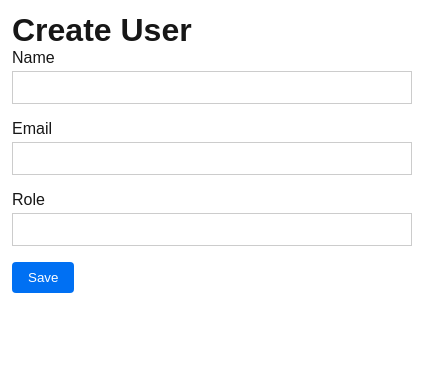
NewUserPage › shows validation errors when submitting empty form
This screenshot has width=429, height=370.
Click the button "Save" at {"x": 43, "y": 278}, box [12, 262, 74, 293]
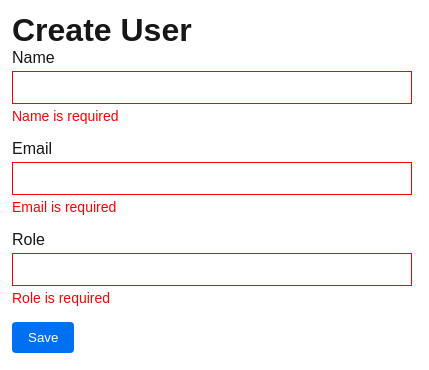
expect the text "Name is required" is shown: met, box [12, 108, 119, 124]
expect the text "Email is required" is shown: met, box [12, 199, 116, 215]
expect the text "Role is required" is shown: met, box [12, 290, 110, 306]
